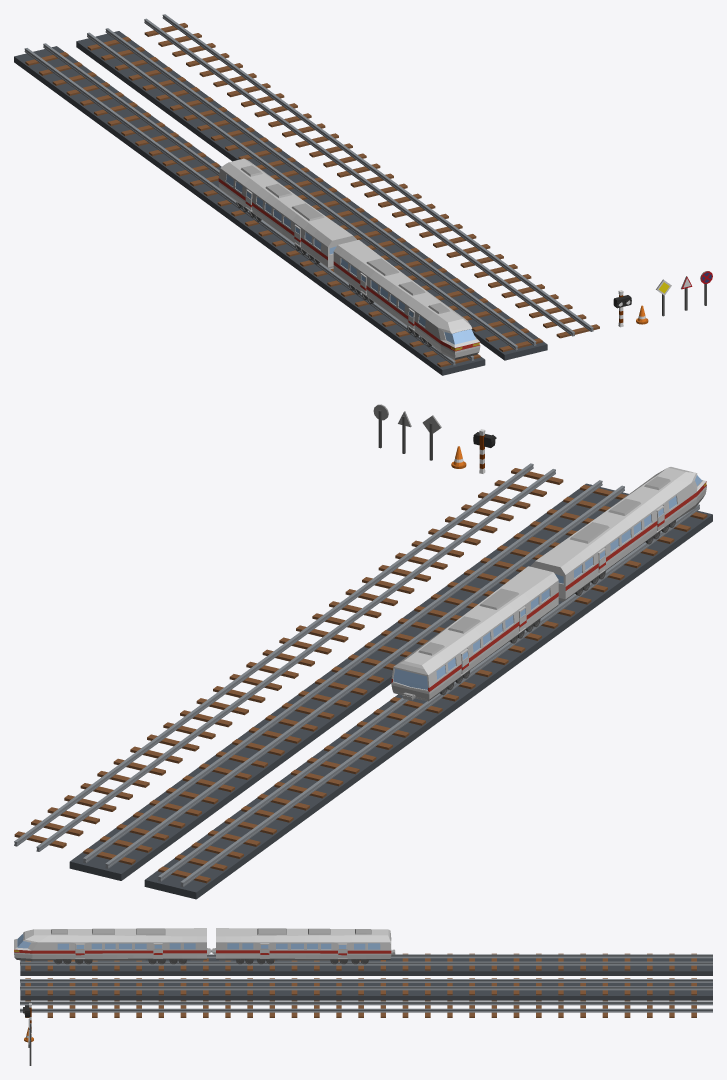
Rendered from train (1).fbx.
The picture shows the model from 3 angles, top to bottom: view 1: azimuth 30°, elevation 25°; view 2: azimuth 150°, elevation 25°; view 3: azimuth 270°, elevation 25°; orthographic projection. The views are drawn at different scales.
Parts seen in each view (by area): view 1: train, rails.002, rails.001, Plane rails.001, Plane rails, rails; view 2: train, rails.002, rails.001, Plane rails.001, Plane rails, rails; view 3: train, Plane rails.001, rails.002, Plane rails, rails.001, rails, wheels.
Part boxes in pixels (x1,y1,x2,y2): train: [218, 158, 480, 359]; rails.002: [144, 14, 599, 338]; rails.001: [87, 28, 542, 351]; Plane rails.001: [76, 31, 547, 360]; Plane rails: [14, 46, 485, 375]; rails: [24, 43, 480, 367]; train: [391, 467, 706, 701]; rails.002: [14, 463, 563, 851]; rails.001: [83, 480, 627, 868]; Plane rails.001: [69, 483, 628, 880]; Plane rails: [144, 511, 712, 899]; rails: [158, 504, 707, 886]; train: [14, 928, 395, 961]; Plane rails.001: [20, 983, 712, 1000]; rails.002: [20, 1000, 712, 1017]; Plane rails: [20, 958, 712, 975]; rails.001: [20, 978, 712, 995]; rails: [20, 953, 712, 970]; wheels: [54, 959, 368, 964].
Size of what is drawn, in the model's own units: 1884 by 297 by 5116.
